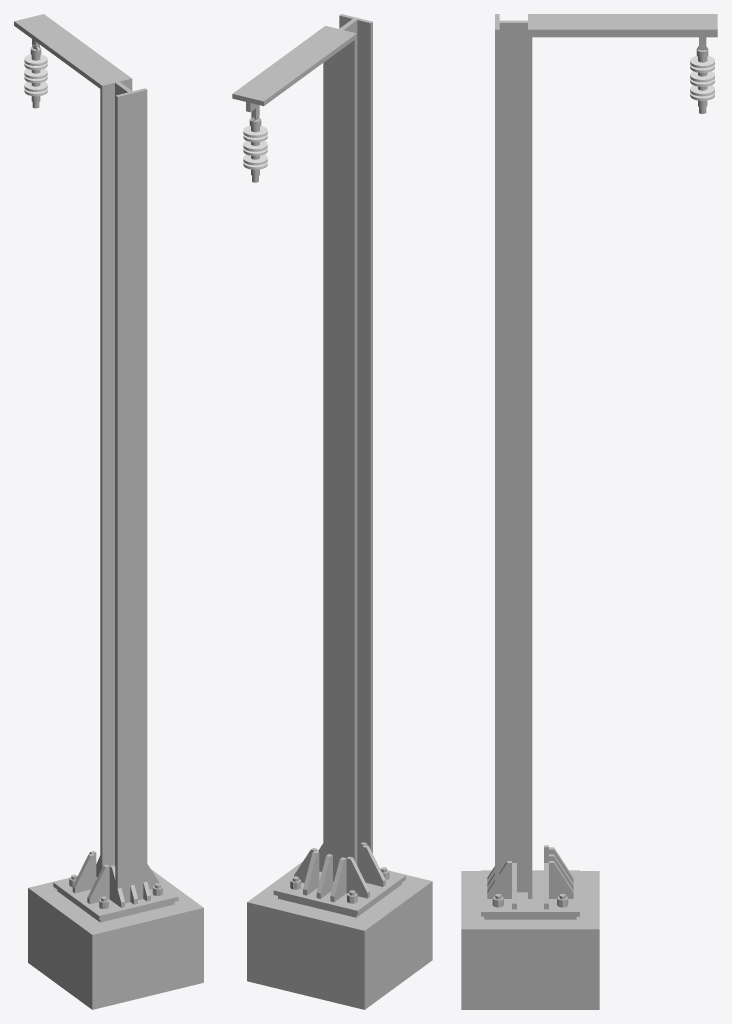
File: pillar1_center(wire).obj
3 renders of one model, left to right at view 1: azimuth 30°, elevation 25°; view 2: azimuth 150°, elevation 25°; view 3: azimuth 270°, elevation 25°, orthographic. The views are drawn at different scales.
Visible parts, largest first — view 1: 立方体.110, 立方体.070, 立方体.004, 立方体.109, 柱体.007, 立方体.101, 立方体.102; view 2: 立方体.110, 立方体.070, 立方体.004, 立方体.109, 柱体.007, 立方体.102, 立方体.101, 立方体.105, 立方体.104, 立方体.103; view 3: 立方体.110, 立方体.070, 立方体.004, 立方体.109, 柱体.007, 立方体.105, 立方体.108.
Part boxes in pixels (box(x1,y1,x2,y2)): 立方体.110: box(100, 77, 147, 903); 立方体.070: box(28, 869, 203, 1009); 立方体.004: box(14, 14, 129, 88); 立方体.109: box(53, 877, 178, 922); 柱体.007: box(24, 46, 47, 102); 立方体.101: box(72, 853, 94, 893); 立方体.102: box(87, 864, 109, 903); 立方体.110: box(323, 14, 372, 881); 立方体.070: box(247, 861, 432, 1009); 立方体.004: box(232, 27, 354, 112); 立方体.109: box(273, 871, 405, 917); 柱体.007: box(243, 117, 267, 176); 立方体.102: box(362, 845, 385, 886); 立方体.101: box(346, 856, 369, 898); 立方体.105: box(303, 850, 319, 895); 立方体.104: box(330, 857, 346, 902); 立方体.103: box(316, 854, 332, 898); 立方体.110: box(495, 14, 532, 898); 立方体.070: box(461, 871, 599, 1009); 立方体.004: box(532, 14, 717, 37); 立方体.109: box(481, 870, 579, 919); 柱体.007: box(690, 46, 714, 107); 立方体.105: box(549, 861, 573, 898); 立方体.108: box(487, 861, 511, 898).
Bounding box in the file's own units: 1.12 × 8.56 × 2.07.
